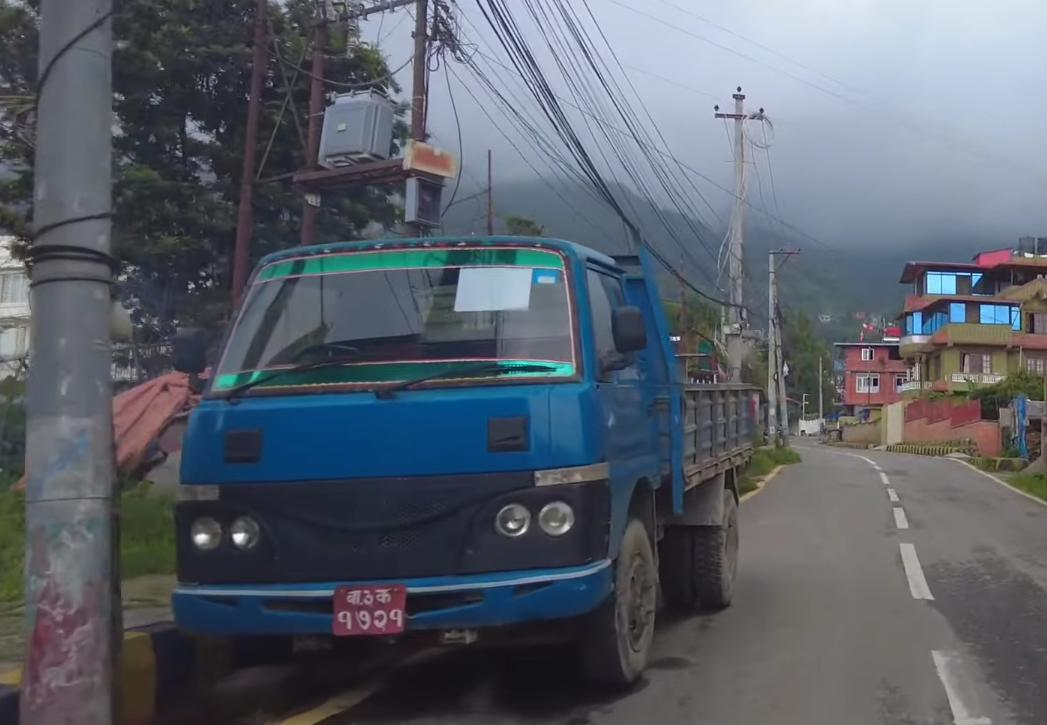mini_truck: (162, 229, 762, 694)
